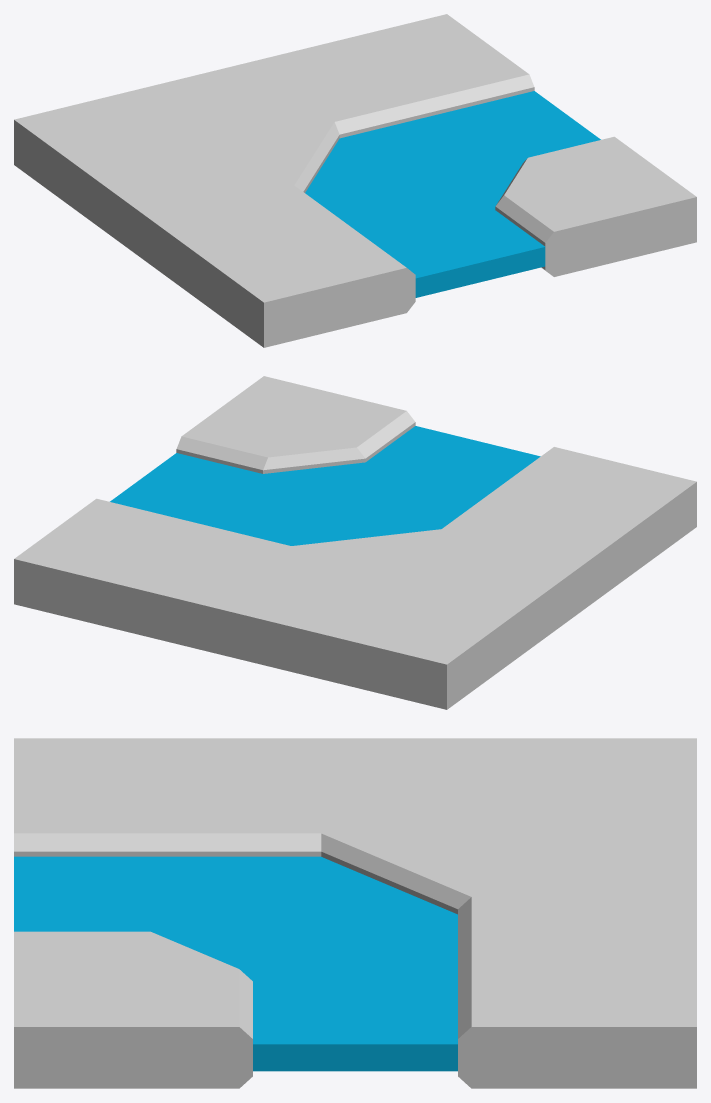
Rendered from K1_ceiling_123.fbx.
3 views of the same model, one above another, from view 1: azimuth 30°, elevation 25°; view 2: azimuth 150°, elevation 25°; view 3: azimuth 270°, elevation 25° (orthographic). The views are drawn at different scales.
Parts seen in each view (by area): view 1: polySurface86; view 2: polySurface86; view 3: polySurface86.
Part boxes in pixels (x1,y1,x2,y2): polySurface86: (14, 14, 696, 347); polySurface86: (14, 376, 696, 709); polySurface86: (14, 738, 696, 1088).
Bounding box in the file's own units: 20 × 2 × 20.
